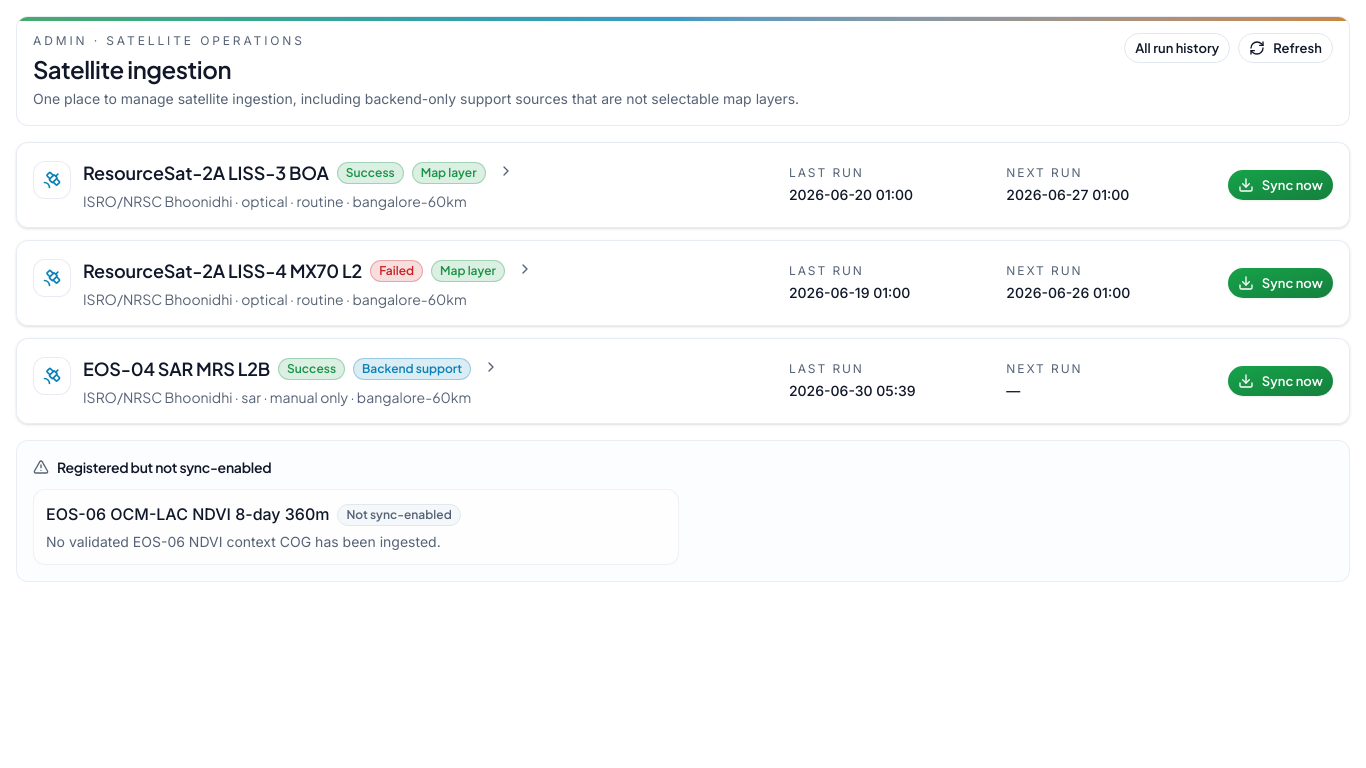
Test: AdminIngestionSources › submits a live Sync now request after a simple inline confirmation
Check: the text "ResourceSat-2A LISS-3 BOA" is shown, box x1=83 y1=159 x2=329 y2=187
Click the button with aria-label "Sync now ResourceSat-2A LISS-3 BOA" at (1280, 185), box x1=1228 y1=170 x2=1333 y2=200
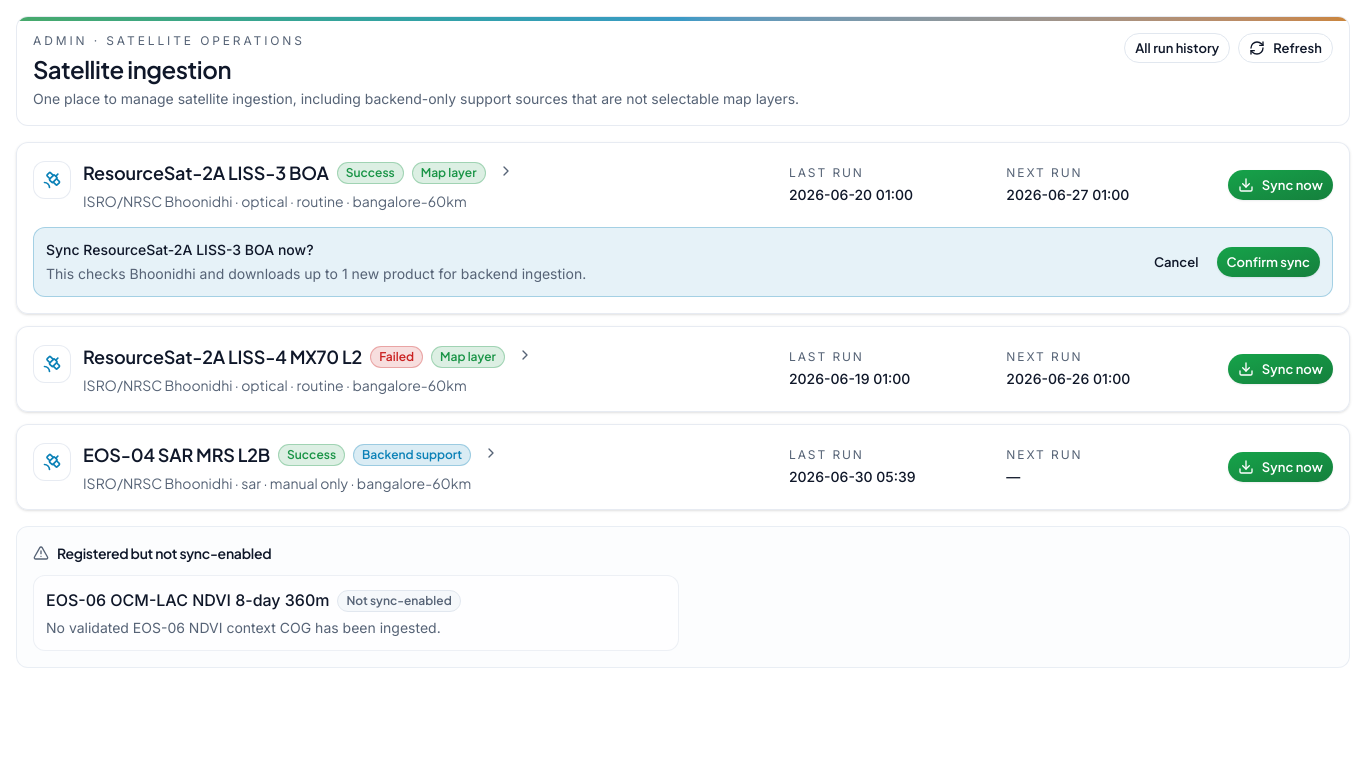
Check: the text "Sync ResourceSat-2A LISS-3 BOA now?" is shown, box x1=46 y1=241 x2=314 y2=258
Click the button "Confirm sync" at (1268, 262), box x1=1216 y1=247 x2=1320 y2=277
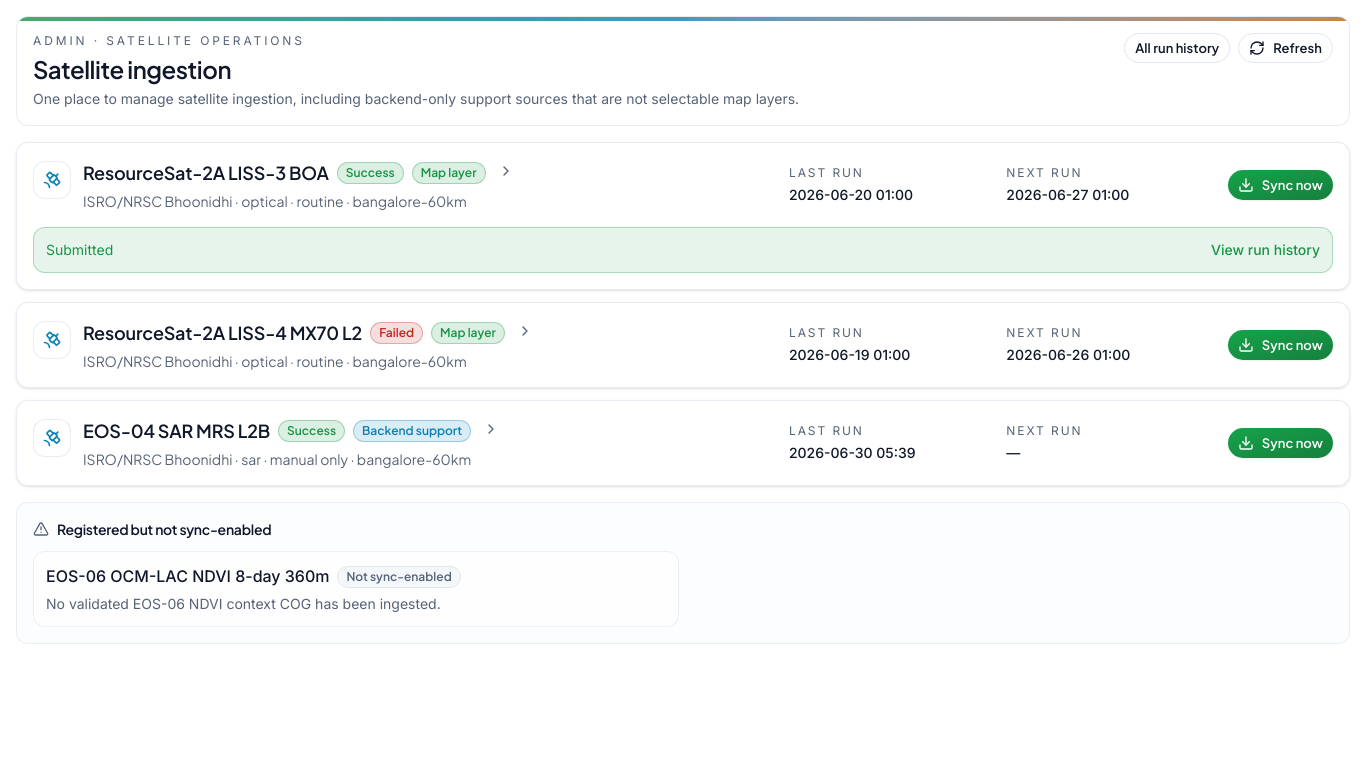
Check: the text "Submitted" is shown, box x1=46 y1=240 x2=113 y2=260
